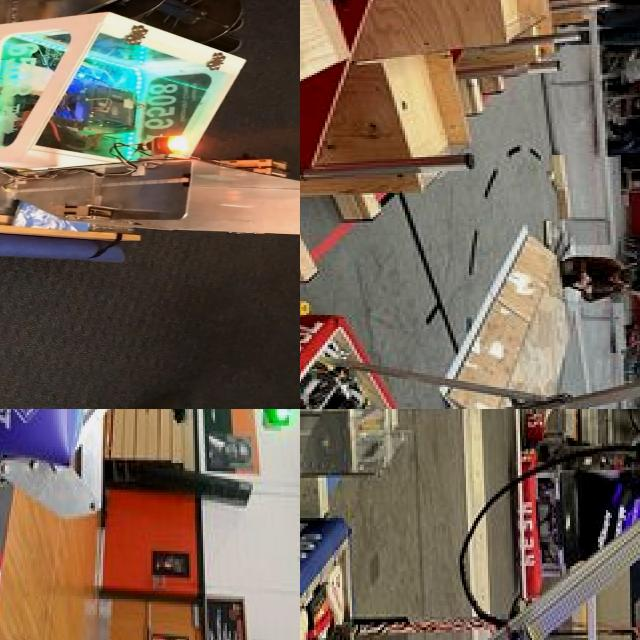FRC-Robots: (300, 52, 640, 409), (300, 409, 640, 640), (0, 0, 300, 247), (0, 409, 300, 592)
